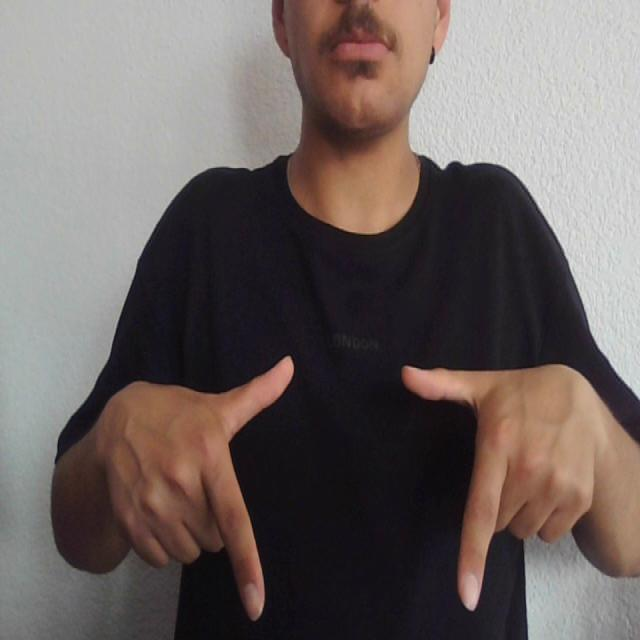Nerede: (187, 344, 514, 626)
